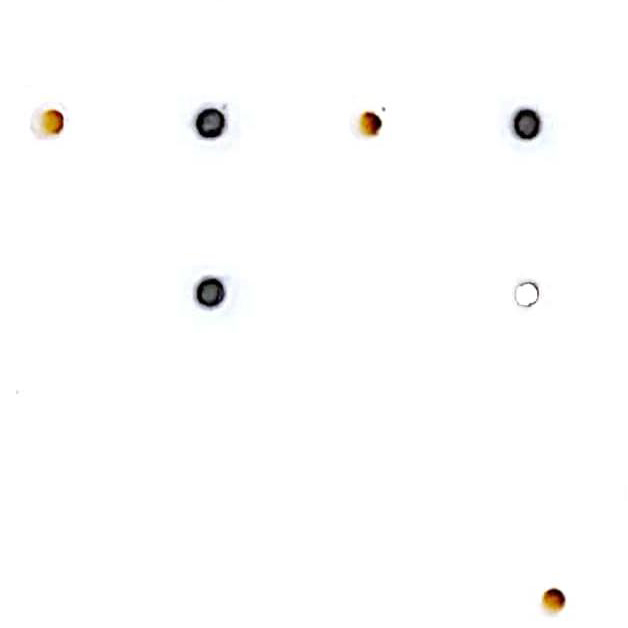abnormal: (498, 256, 562, 327)
cancer: (485, 88, 568, 166), (171, 93, 253, 167), (178, 265, 253, 340)
normal: (16, 87, 89, 162), (336, 97, 403, 158), (521, 571, 581, 624)
